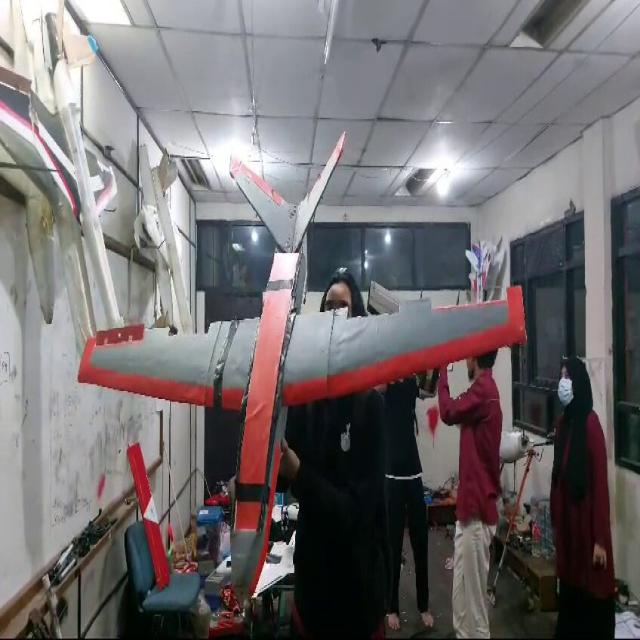plane: (76, 127, 527, 609)
